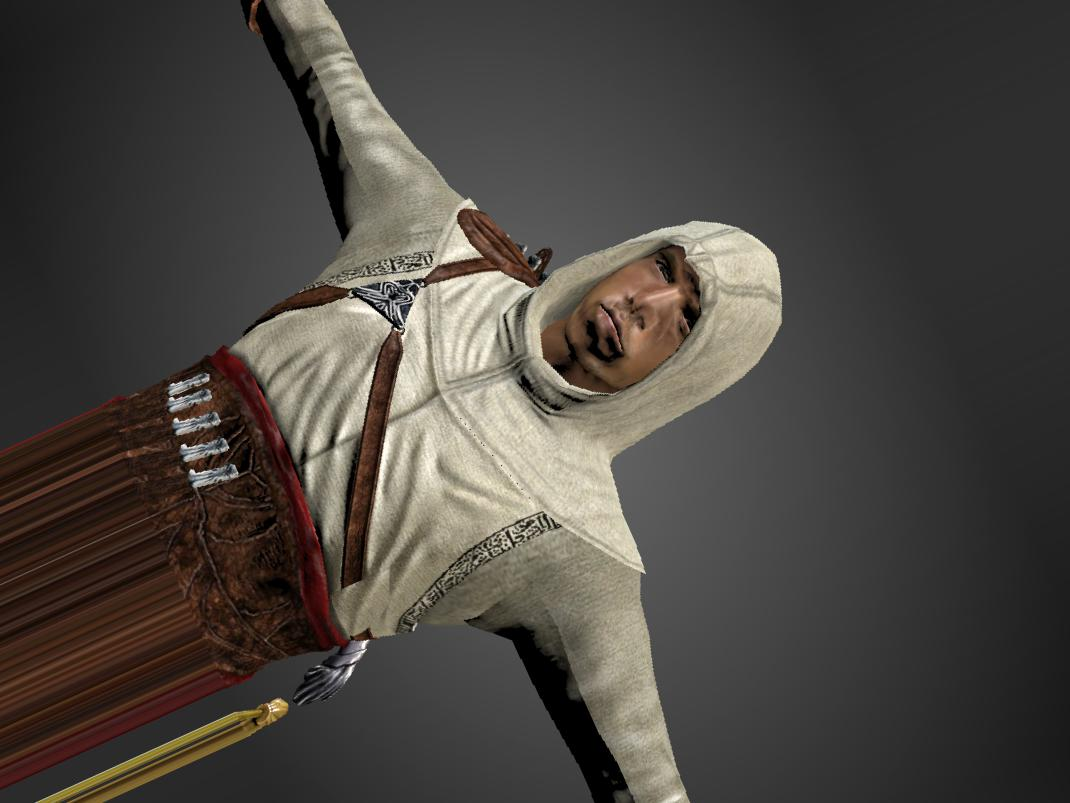clip: (315, 573, 382, 636)
